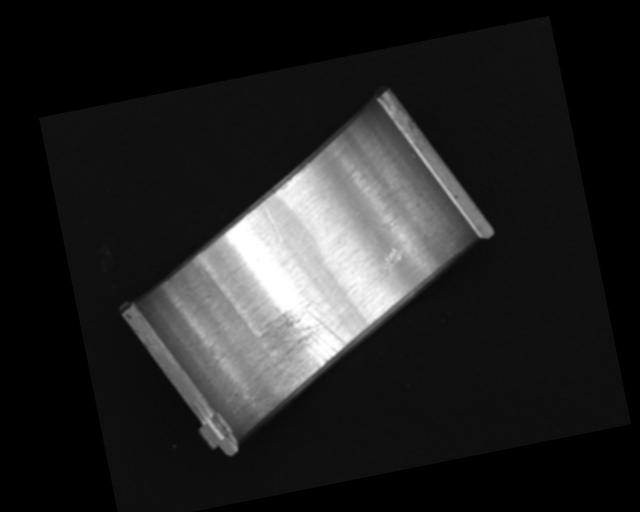bruise: (374, 245, 405, 273)
nick: (264, 203, 283, 244)
scratch: (245, 293, 357, 413)
